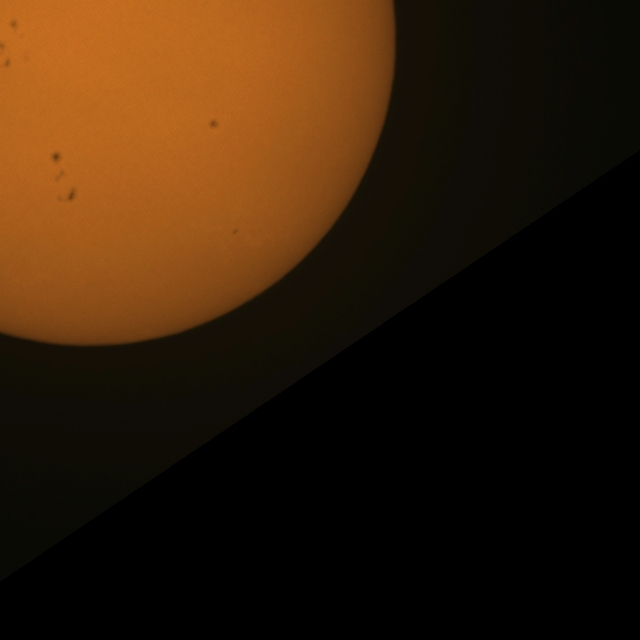sunspot: (53, 170, 78, 206), (48, 149, 67, 185), (0, 39, 11, 70), (49, 150, 63, 170), (7, 18, 19, 32), (208, 118, 220, 131), (1, 57, 12, 70), (0, 39, 7, 58), (231, 227, 239, 236)
